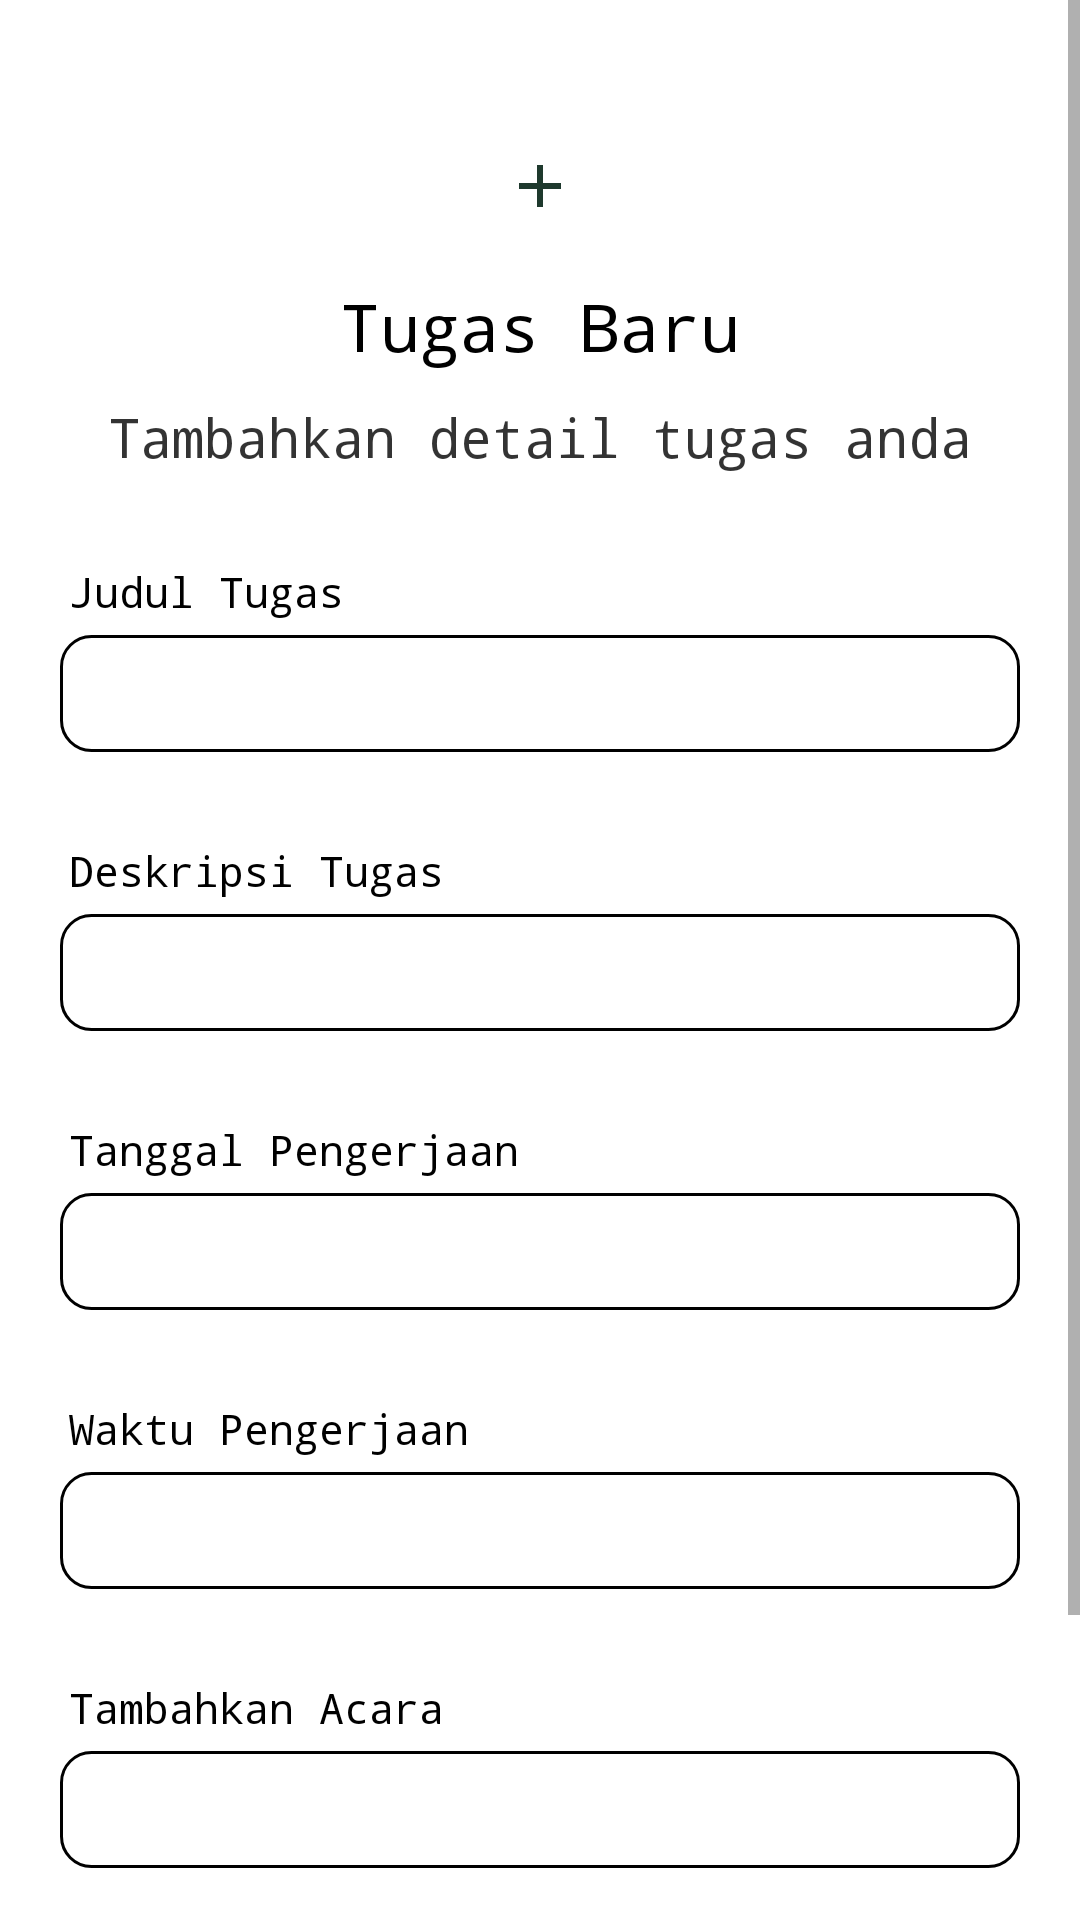

Locate icon controls on the screen. Image size 1080px×1920px, boxes as (x1, y1, x2, y2).
add: (519, 165, 561, 207)
